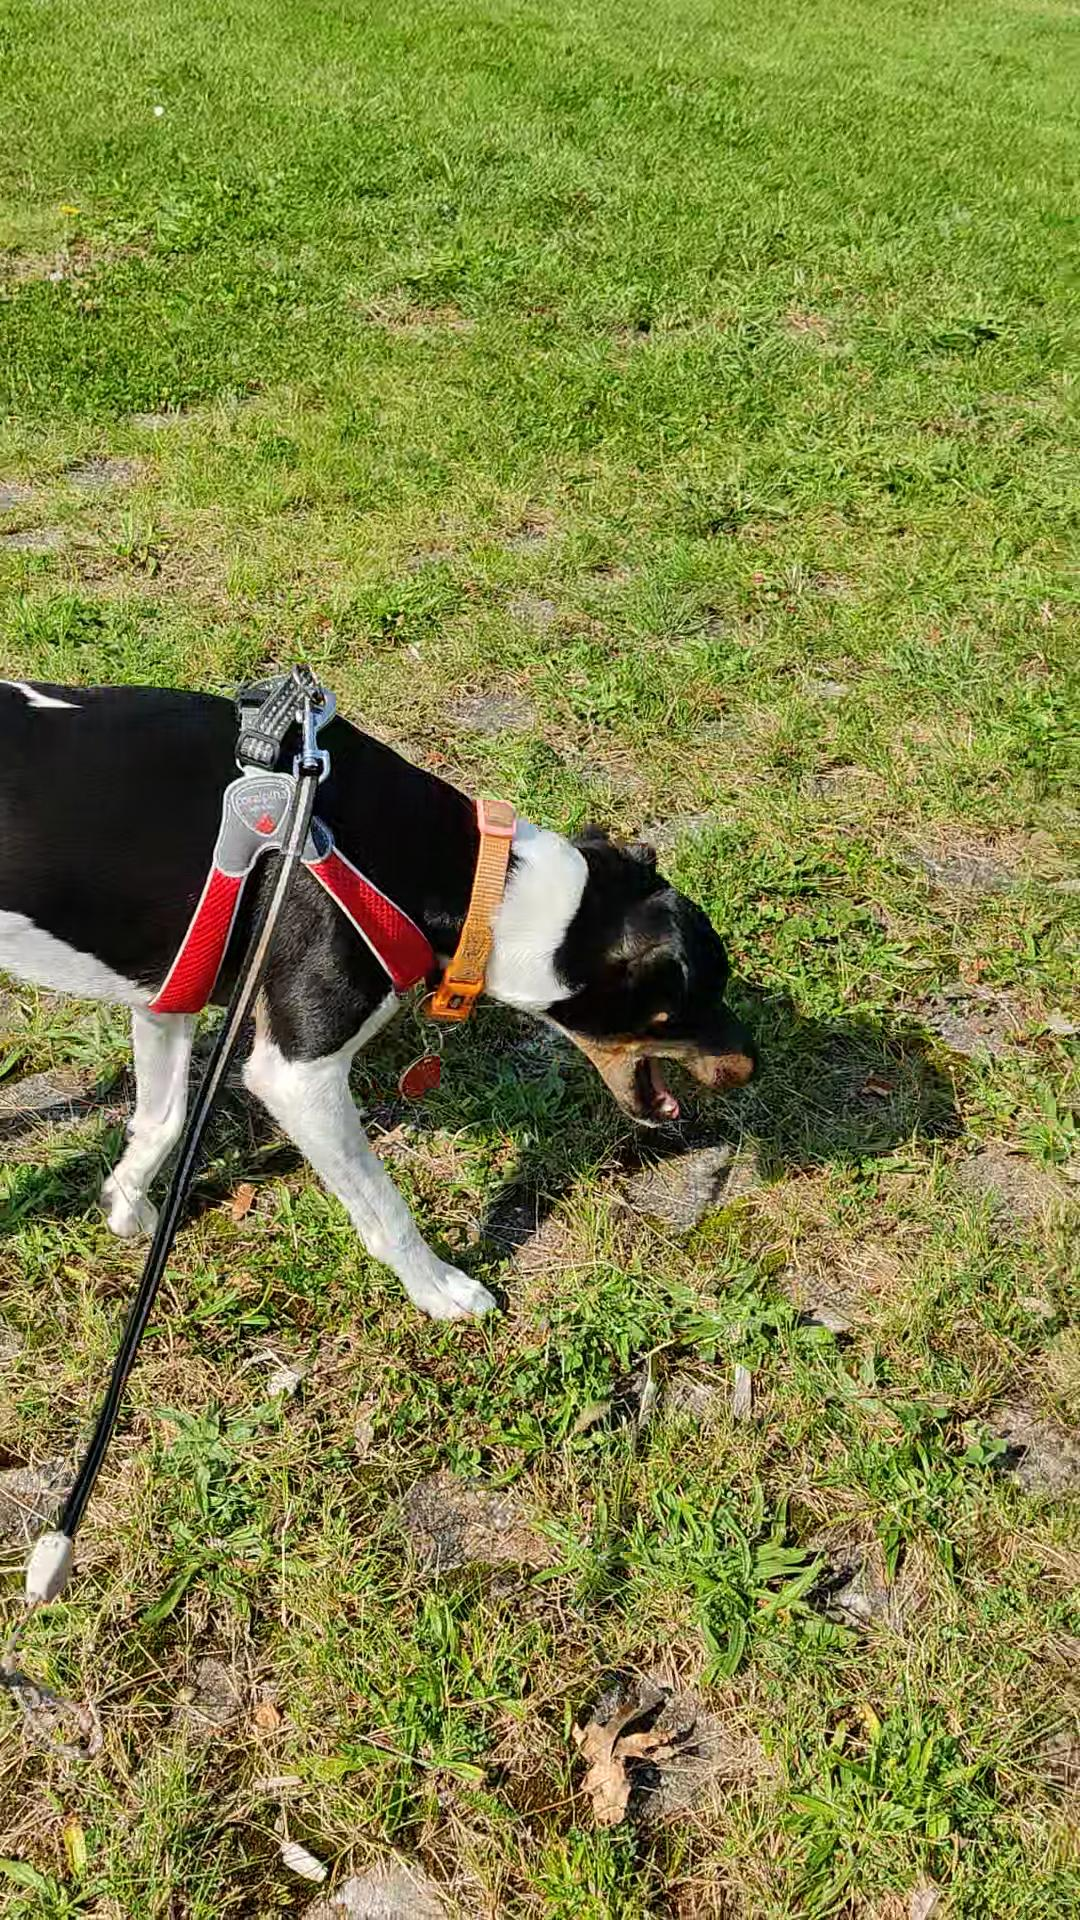Dog: (0, 670, 789, 1331)
